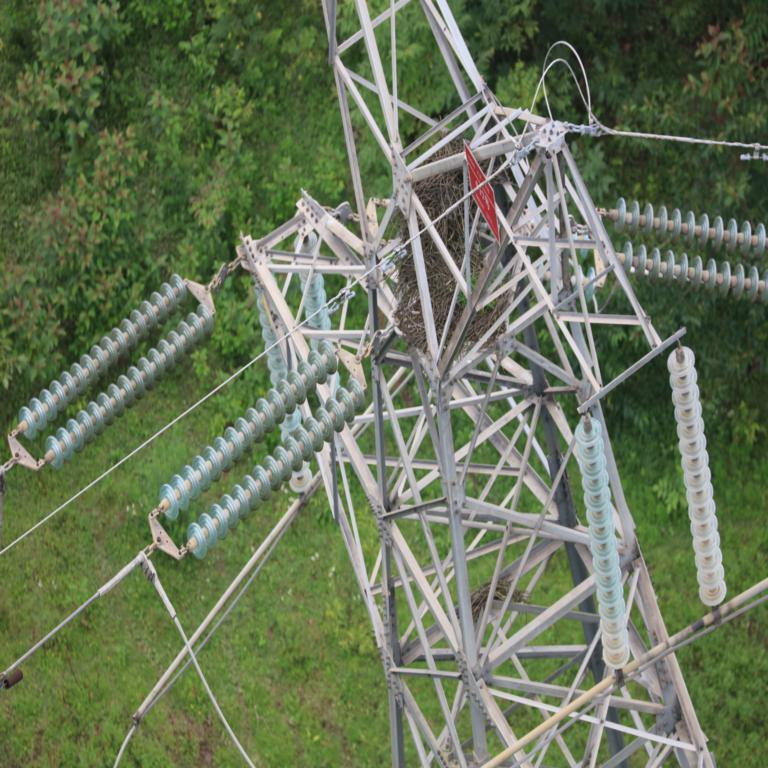nest: (402, 150, 503, 343)
